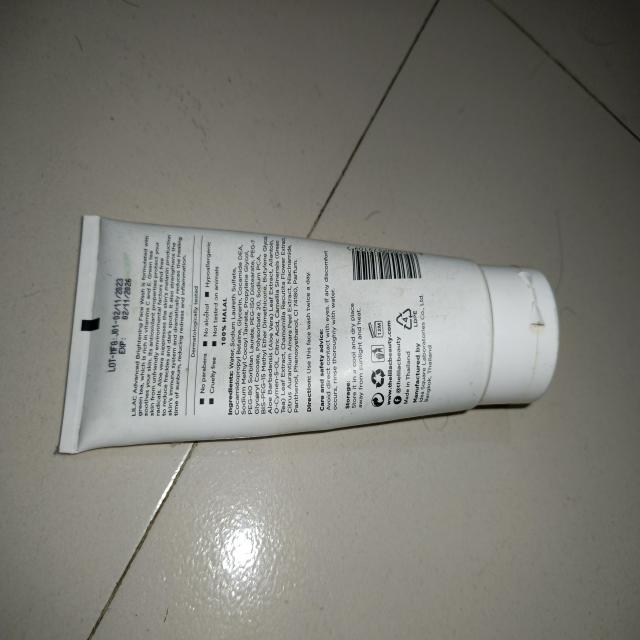Squeeze Tube: (59, 206, 567, 450)
